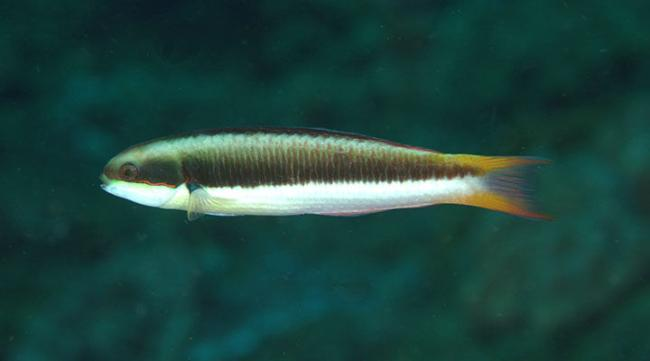fish: (98, 126, 556, 225)
